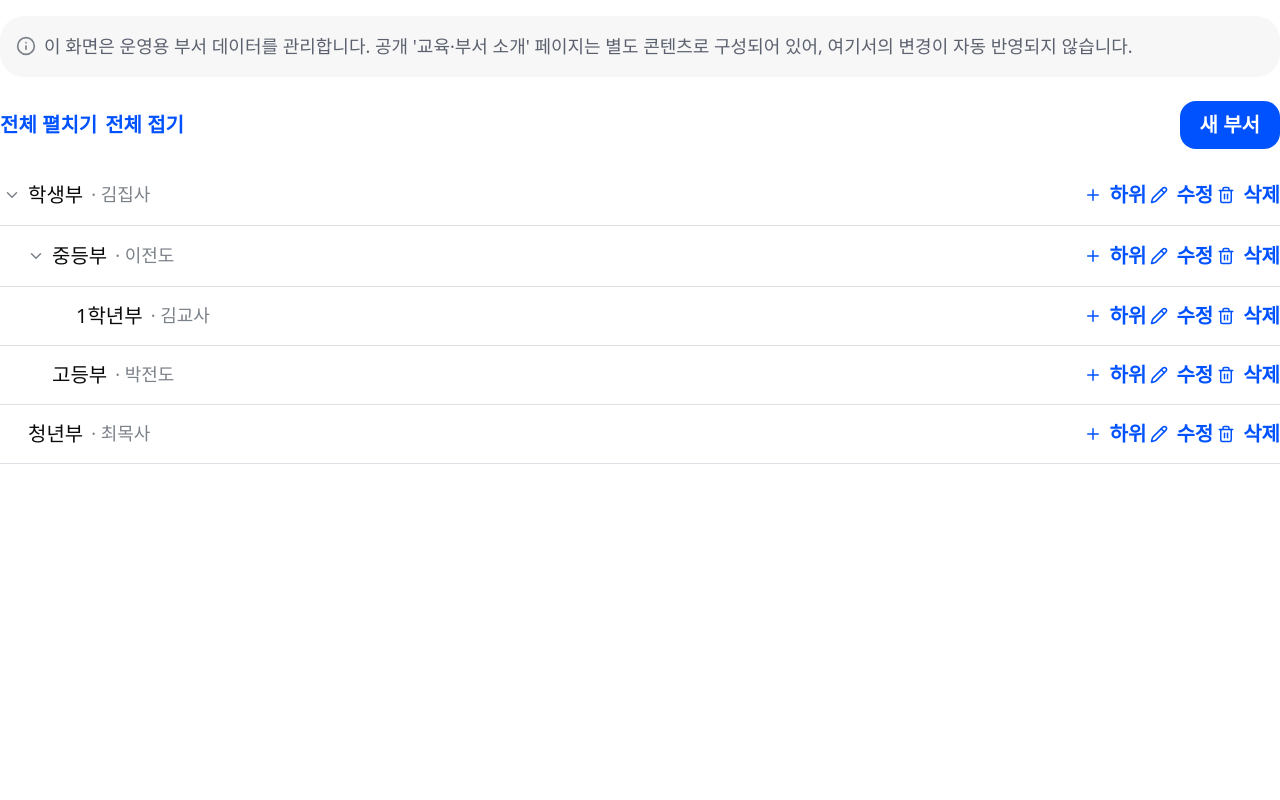
DepartmentManager (접이식 트리) › 새 부서는 상위 (없음)으로 create 다이얼로그를 연다
expect the text "중등부" is shown: met, box [52,239,107,273]
Click the button "새 부서". click: (1230, 125)
box: [1180,101,1279,149]
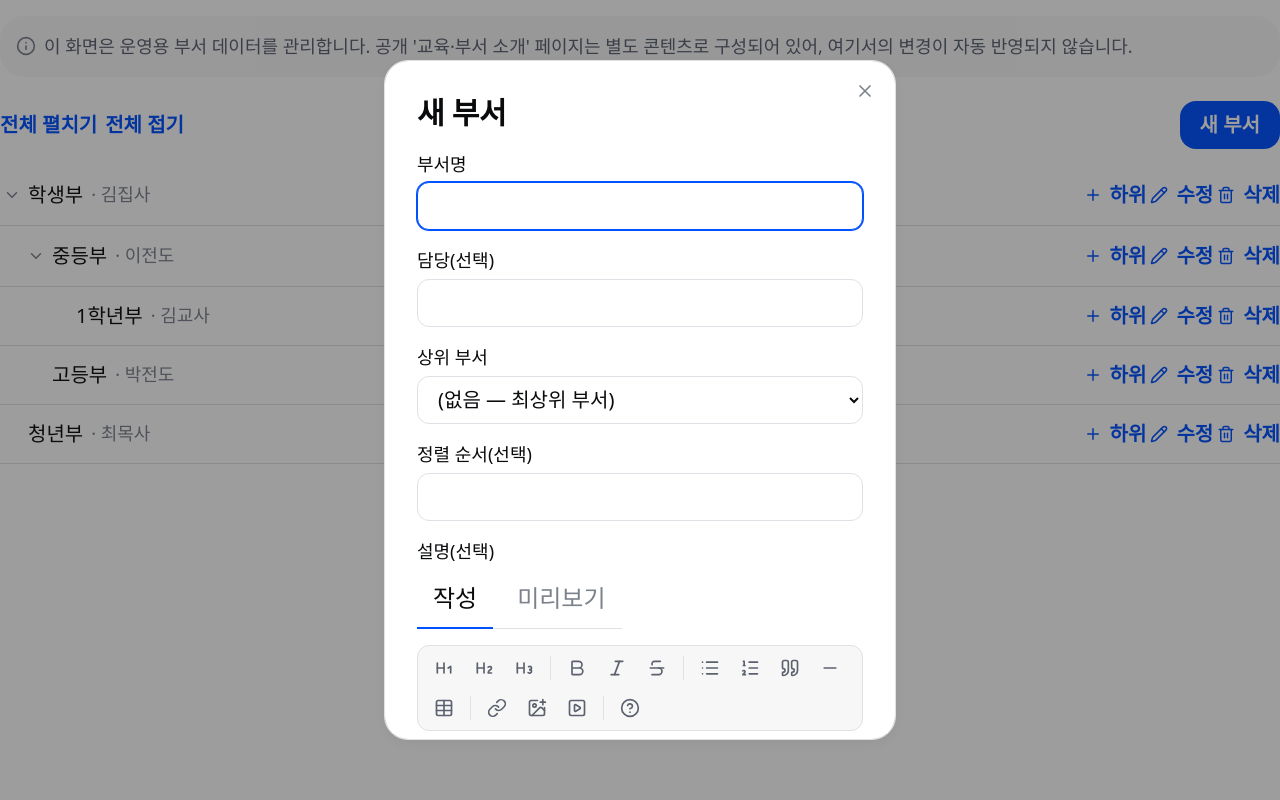
expect the dropdown labelled "상위 부서" shows "(없음 — 최상위 부서)": met, box [417,376,863,424]
